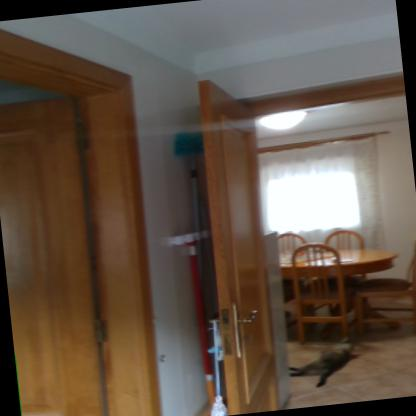open: (185, 56, 415, 401)
semi: (0, 51, 178, 415)
